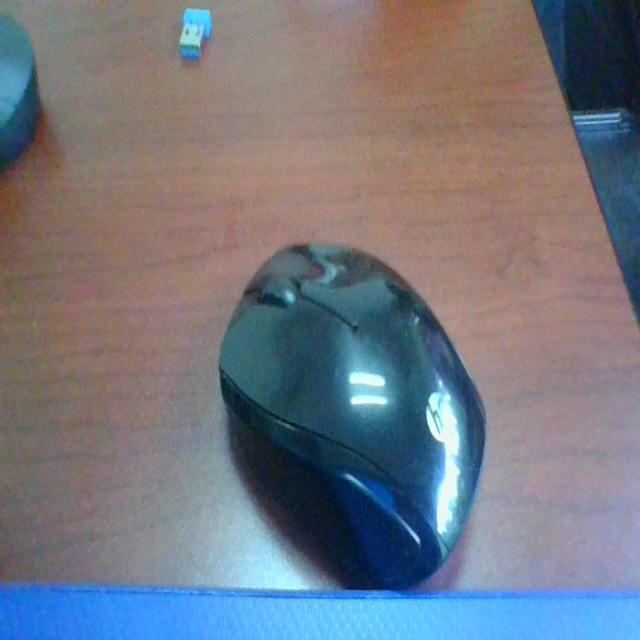Mouse: (218, 168, 500, 582)
